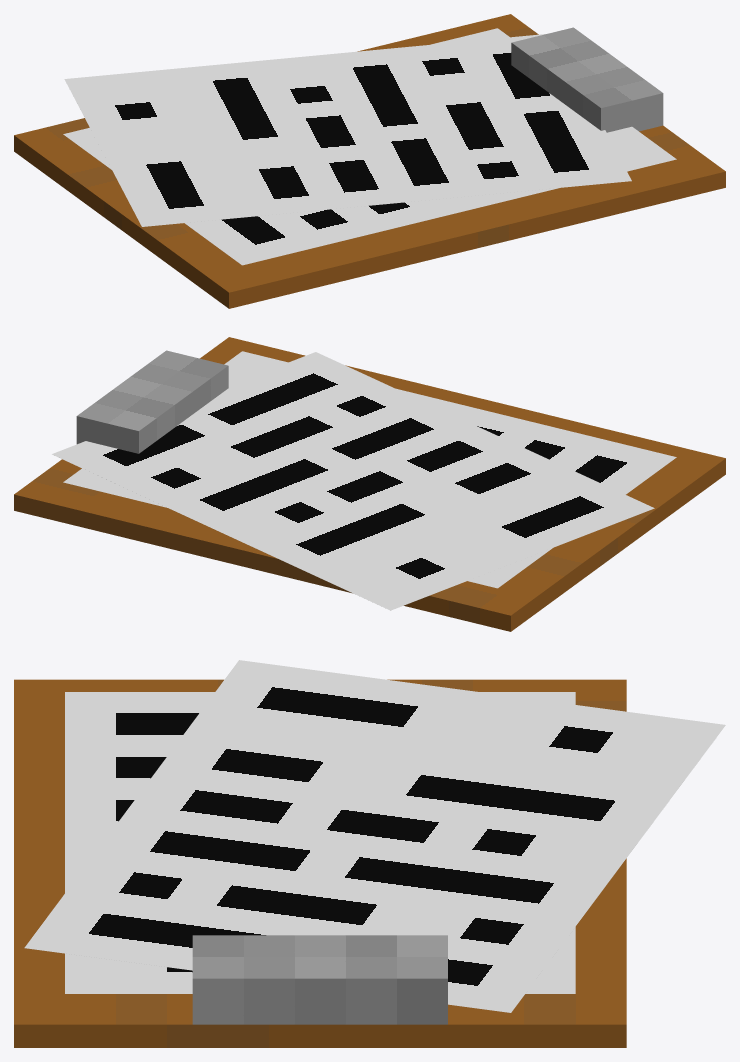
The model's file is clipboard.glb.
3 renders of one model, top to bottom at view 1: azimuth 30°, elevation 25°; view 2: azimuth 150°, elevation 25°; view 3: azimuth 270°, elevation 25°, orthographic. The views are drawn at different scales.
Parts seen in each view (by area): view 1: cube_3, cube_0, cube_2, cube_1; view 2: cube_3, cube_0, cube_2, cube_1; view 3: cube_3, cube_0, cube_1, cube_2.
Boxes of the visible parts, x1=… form: cube_3: x1=64, y1=34, x2=631, y2=226; cube_0: x1=14, y1=14, x2=725, y2=308; cube_2: x1=63, y1=28, x2=676, y2=265; cube_1: x1=511, y1=27, x2=663, y2=132; cube_3: x1=52, y1=352, x2=654, y2=610; cube_0: x1=14, y1=337, x2=725, y2=631; cube_2: x1=63, y1=351, x2=676, y2=588; cube_1: x1=76, y1=350, x2=228, y2=453; cube_3: x1=24, y1=660, x2=725, y2=1012; cube_0: x1=14, y1=679, x2=626, y2=1047; cube_1: x1=192, y1=935, x2=447, y2=1024; cube_2: x1=65, y1=692, x2=575, y2=993.
Size of the model in its own units: 1.02 by 0.0938 by 0.8717.
4 materials, 3 textured.
